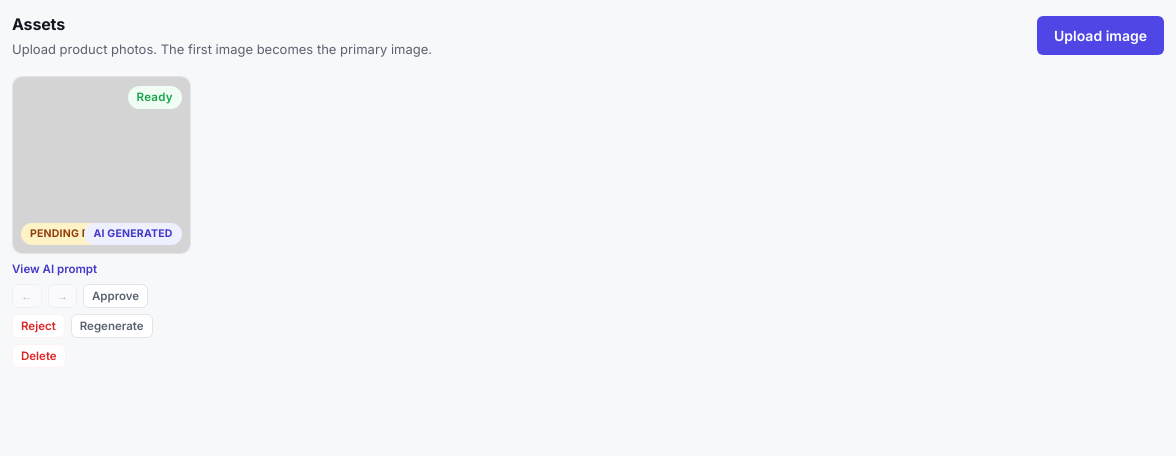
Test: AssetManager › shows an error message when regeneration fails
Click the button "Regenerate": (112, 326) 71,314 -> 152,338
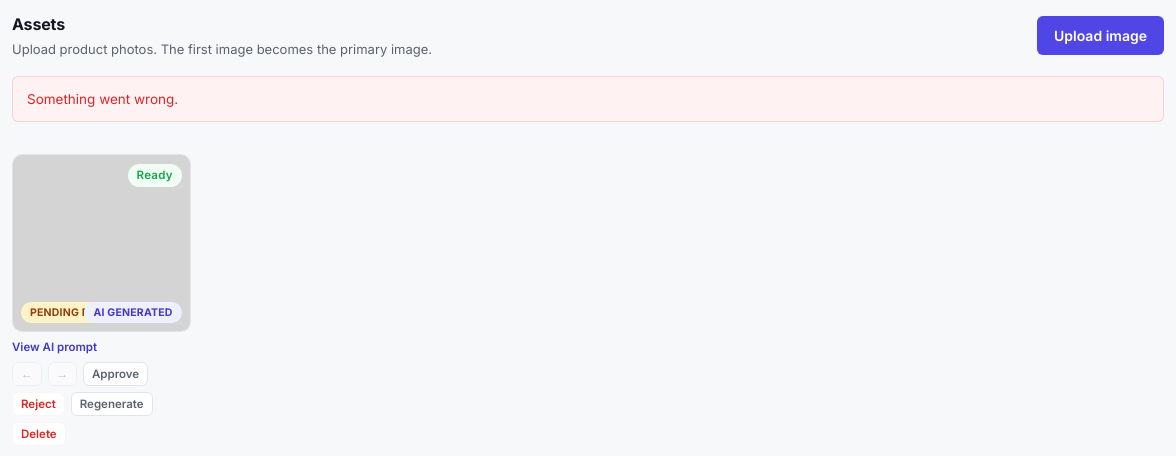
Expected: the text "Something went wrong." is shown, 12,76 -> 1164,122
